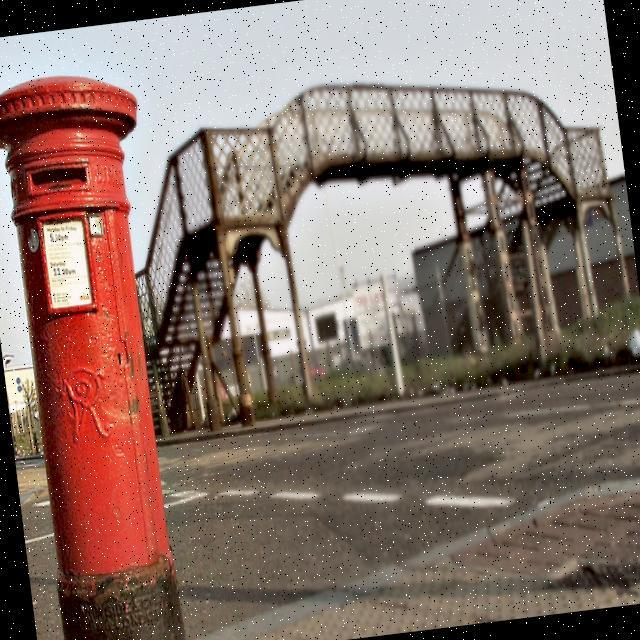fire_hydrant: (0, 68, 209, 640)
